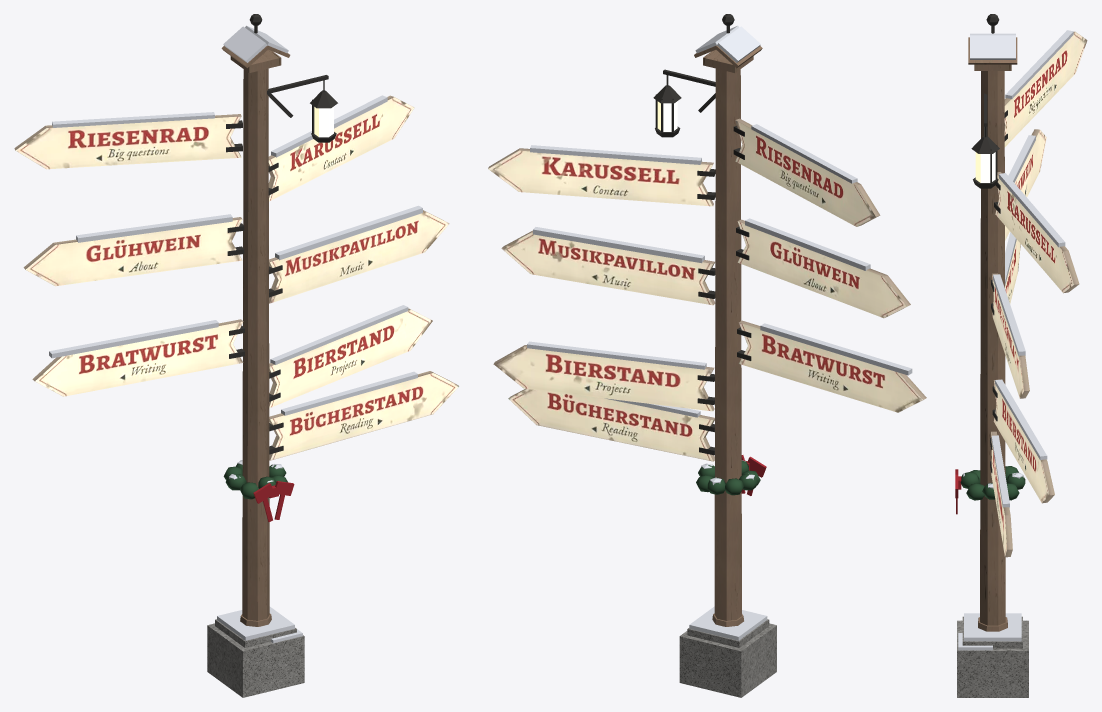
The model's file is signpost.lite.glb.
The picture shows the model from 3 angles, left to right: view 1: azimuth 30°, elevation 25°; view 2: azimuth 150°, elevation 25°; view 3: azimuth 270°, elevation 25°; orthographic projection.
Parts seen in each view (by area): view 1: sign_post, snow_sign, act_sign_riesenrad, act_sign_gluehwein, act_sign_bratwurst, act_sign_buecherstand, act_sign_bandstand, act_sign_bierstand, sign_plinth, act_sign_karussell, sign_ironwork, sign_wreath (+1 smaller); view 2: sign_post, snow_sign, act_sign_karussell, act_sign_bierstand, act_sign_bandstand, act_sign_buecherstand, act_sign_bratwurst, act_sign_gluehwein, sign_plinth, act_sign_riesenrad, sign_ironwork, sign_wreath; view 3: sign_post, snow_sign, sign_plinth, act_sign_riesenrad, act_sign_karussell, act_sign_bierstand, act_sign_bandstand, sign_wreath, act_sign_gluehwein, sign_ironwork, act_sign_buecherstand, sign_lantern_glass (+1 smaller).
Boxes of the visible parts, x1,y1,x2,y2 form: sign_post: [221, 45, 290, 626]; snow_sign: [49, 25, 422, 643]; act_sign_riesenrad: [14, 114, 241, 169]; act_sign_gluehwein: [23, 217, 242, 286]; act_sign_bratwurst: [32, 319, 243, 396]; act_sign_buecherstand: [269, 371, 458, 460]; act_sign_bandstand: [269, 210, 449, 303]; act_sign_bierstand: [269, 308, 432, 407]; sign_plinth: [207, 619, 304, 697]; act_sign_karussell: [268, 95, 414, 201]; sign_ironwork: [249, 14, 337, 142]; sign_wreath: [223, 463, 287, 499]; sign_post: [694, 45, 762, 626]; snow_sign: [527, 26, 912, 640]; act_sign_karussell: [488, 148, 713, 206]; act_sign_bierstand: [493, 345, 714, 411]; act_sign_bandstand: [501, 230, 715, 305]; act_sign_buecherstand: [508, 388, 714, 461]; act_sign_bratwurst: [739, 320, 926, 412]; act_sign_gluehwein: [737, 219, 910, 318]; sign_plinth: [679, 619, 776, 697]; act_sign_riesenrad: [735, 118, 880, 226]; sign_ironwork: [653, 14, 734, 137]; sign_wreath: [696, 460, 760, 495]; sign_post: [968, 37, 1017, 631]; snow_sign: [958, 30, 1073, 650]; sign_plinth: [957, 616, 1028, 697]; act_sign_riesenrad: [1004, 31, 1087, 147]; act_sign_karussell: [995, 172, 1079, 293]; act_sign_bierstand: [993, 379, 1054, 503]; act_sign_bandstand: [992, 273, 1029, 398]; sign_wreath: [960, 466, 1025, 500]; act_sign_gluehwein: [1005, 129, 1046, 240]; sign_ironwork: [971, 14, 999, 188]; act_sign_buecherstand: [991, 431, 1012, 557]; sign_lantern_glass: [975, 152, 995, 182].
Bounding box in the file's own units: 3.4 × 5.13 × 0.9173.
9 materials, 3 textured.
